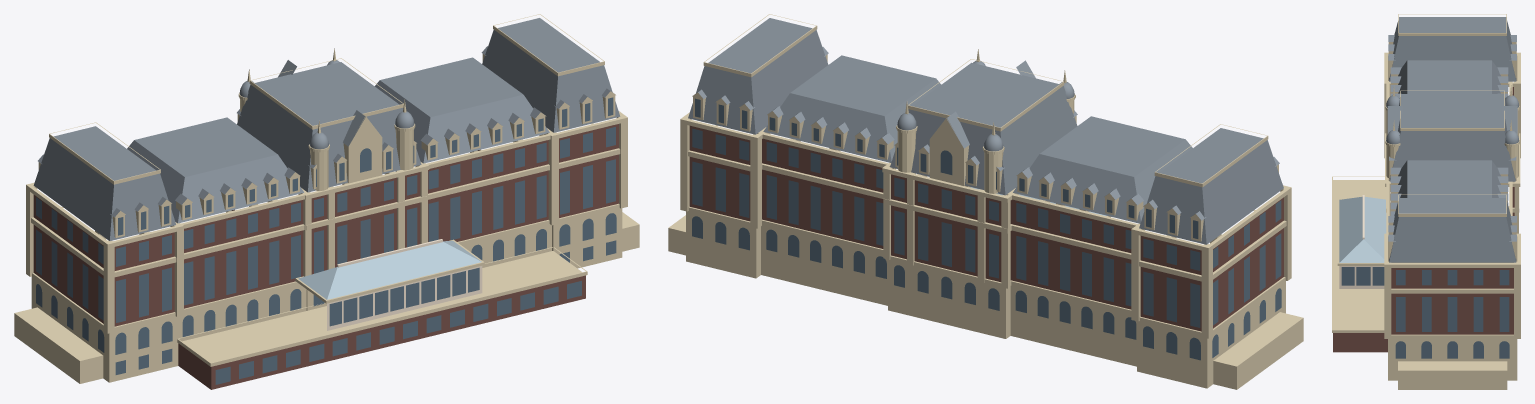
Rendered from amsterdam-amstel-hotel.glb.
The picture shows the model from 3 angles, left to right: view 1: azimuth 30°, elevation 25°; view 2: azimuth 150°, elevation 25°; view 3: azimuth 270°, elevation 25°; orthographic projection. The views are drawn at different scales.
Visible parts, largest first — view 1: Amstel Hotel; view 2: Amstel Hotel; view 3: Amstel Hotel.
Part boxes in pixels (bbox=[...]): Amstel Hotel: bbox=[14, 14, 639, 389]; Amstel Hotel: bbox=[668, 14, 1303, 389]; Amstel Hotel: bbox=[1332, 14, 1520, 389].
Size of the model in its own units: 86.6 by 30.8 by 30.3.
